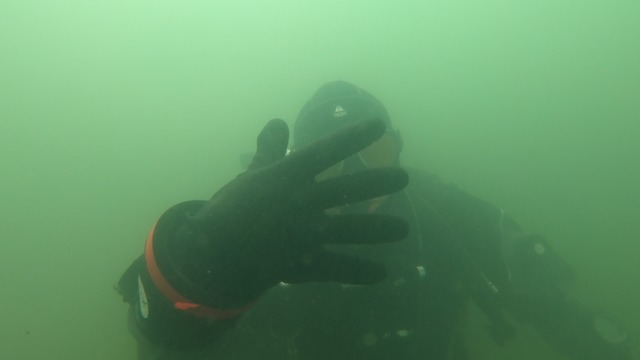Diver: (114, 69, 634, 358)
Hand: (156, 121, 409, 311)
Head: (288, 71, 409, 236)
